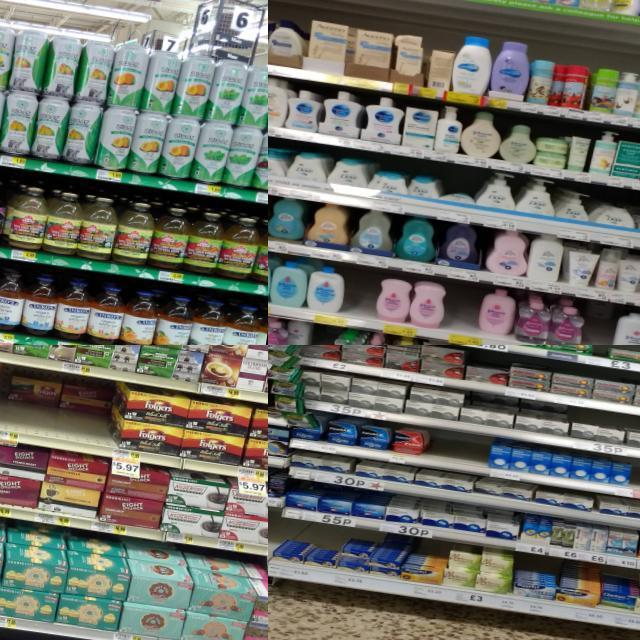empty: (427, 430, 491, 474), (442, 280, 483, 345), (342, 266, 378, 331), (582, 316, 615, 345), (310, 327, 335, 345)
